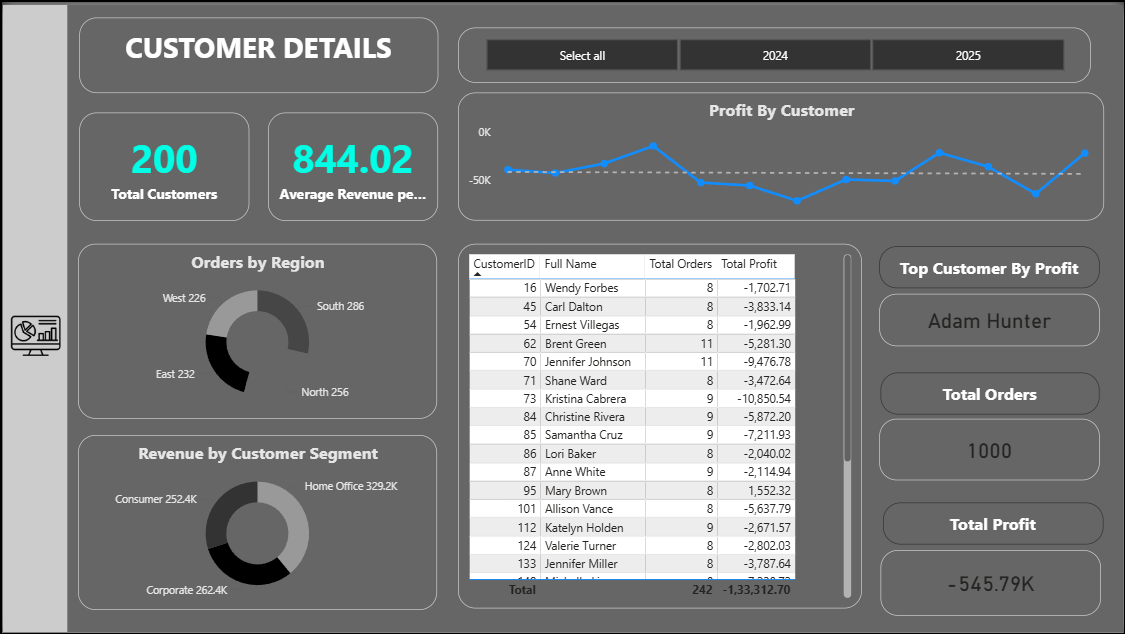

The page's visual inventory and layout, read from the dashboard file:
{"tool":"powerbi","page":{"name":"Customer Detail","canvas":[1280,720],"ordinal":1},"visuals":[{"type":"lineChart","title":"Profit By Customer","fields":{"Y":["Measure.Total Profit"],"Category":["Date_Dim.Date.Variation.Date Hierarchy.Year","Date_Dim.Date.Variation.Date Hierarchy.Quarter","Date_Dim.Date.Variation.Date Hierarchy.Month"]},"box":[520,100,738.3,146.7],"z":0},{"type":"donutChart","title":"Orders by Region","fields":{"Category":["Customer_Dim.Region"],"Y":["Measure.Total Orders"]},"box":[85.6,273.3,410,200],"z":1000},{"type":"card","fields":{"Values":["Measure.Total Customers"]},"box":[87,123,194,124],"z":2000},{"type":"textbox","box":[87,14,410,86],"z":3000},{"type":"card","fields":{"Values":["Measure.Average Revenue per Customer"]},"box":[303,123,194,124],"z":4000},{"type":"shape","box":[0,0,73.3,720],"z":5000},{"type":"donutChart","title":"Revenue by Customer Segment","fields":{"Category":["Customer_Dim.Segment"],"Y":["Measure.Total Revenue"]},"box":[85.6,491.1,410,200],"z":6000},{"type":"textbox","box":[1001.7,275,251.7,48.3],"z":7000},{"type":"textbox","box":[1003.3,420,250,48.3],"z":8000},{"type":"textbox","box":[1005,568.3,251.7,48.3],"z":9000},{"type":"slicer","fields":{"Values":["Date_Dim.Year"]},"box":[520,25,723.3,63.3],"z":10000},{"type":"tableEx","title":"Top 15 Customers","fields":{"Values":["Customer_Dim.CustomerID","Customer_Dim.Full Name","Measure.Total Orders","Measure.Total Profit"]},"box":[520,273.3,461.7,416.7],"z":11000},{"type":"card","fields":{"Values":["Min(Customer_Dim.Full Name)"]},"box":[1001.7,330,251.7,60],"z":12000},{"type":"card","fields":{"Values":["Measure.Total Orders"]},"box":[1001.7,473.3,251.7,70],"z":13000},{"type":"card","fields":{"Values":["Measure.Total Profit"]},"box":[1003.3,623.3,251.7,75],"z":14000},{"type":"image","box":[1.7,35,71.7,685],"z":15000}]}

Visuals, with their boxes in screenshot pixels (x1, y1, x2, y2), scaled from the page's 1280x720 canvas onto the 1125x634 screenshot:
"Profit By Customer" lineChart: x1=457 y1=88 x2=1106 y2=217
"Orders by Region" donutChart: x1=75 y1=241 x2=436 y2=417
card - Measure.Total Customers: x1=76 y1=108 x2=247 y2=217
textbox: x1=76 y1=12 x2=437 y2=88
card - Measure.Average Revenue per Customer: x1=266 y1=108 x2=437 y2=217
shape: x1=0 y1=0 x2=64 y2=633
"Revenue by Customer Segment" donutChart: x1=75 y1=432 x2=436 y2=609
textbox: x1=880 y1=242 x2=1102 y2=285
textbox: x1=882 y1=370 x2=1102 y2=412
textbox: x1=883 y1=500 x2=1105 y2=543
slicer - Date_Dim.Year: x1=457 y1=22 x2=1093 y2=78
"Top 15 Customers" tableEx: x1=457 y1=241 x2=863 y2=608
card - Min(Customer_Dim.Full Name): x1=880 y1=291 x2=1102 y2=343
card - Measure.Total Orders: x1=880 y1=417 x2=1102 y2=478
card - Measure.Total Profit: x1=882 y1=549 x2=1103 y2=615
image: x1=1 y1=31 x2=65 y2=633
